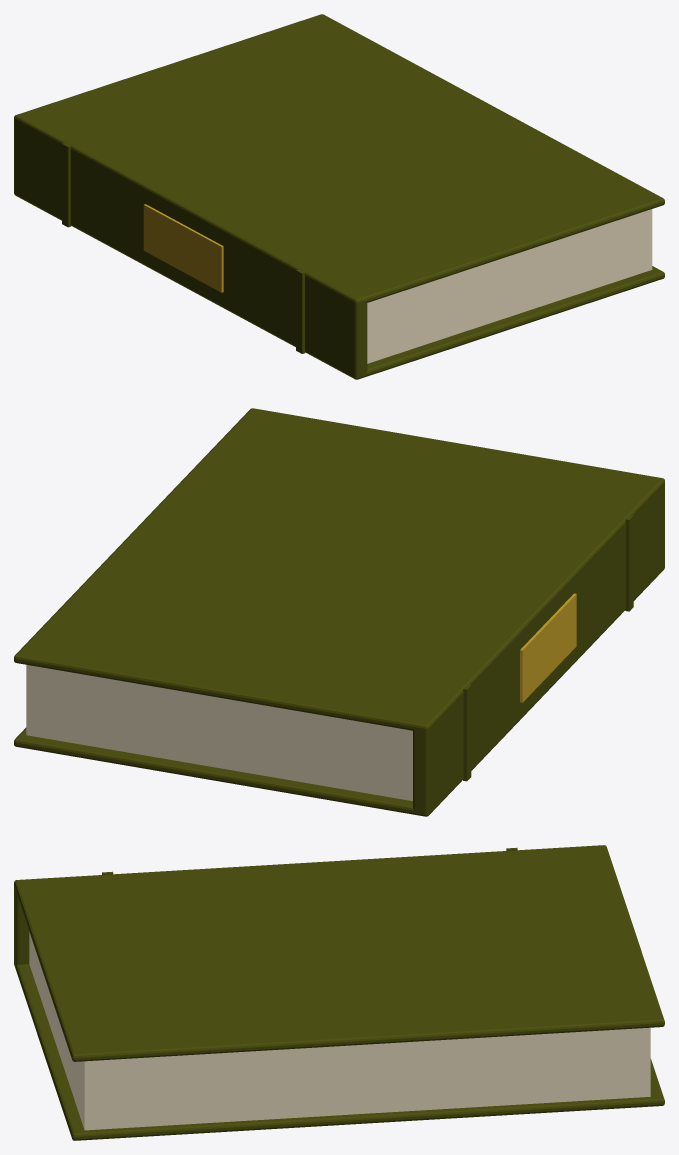
The model's file is Books4.fbx.
3 views of the same model, one above another, from view 1: azimuth 30°, elevation 25°; view 2: azimuth 150°, elevation 25°; view 3: azimuth 270°, elevation 25° (orthographic). The views are drawn at different scales.
Parts seen in each view (by area): view 1: BookPair.013; view 2: BookPair.013; view 3: BookPair.013.
Boxes of the visible parts, x1=… form: BookPair.013: x1=14, y1=14, x2=664, y2=379; BookPair.013: x1=14, y1=408, x2=664, y2=816; BookPair.013: x1=14, y1=845, x2=664, y2=1140.
Bounding box in the file's own units: 18.38 × 3.5 × 23.92.
